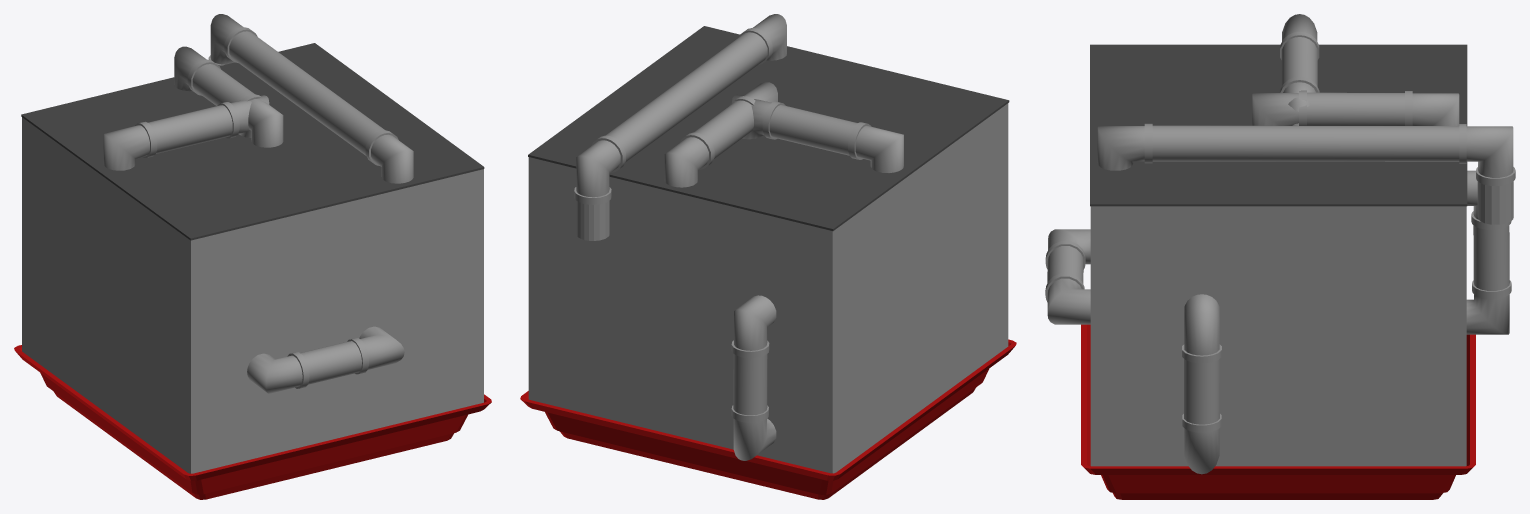
The model's file is Cage (1).FBX.
3 views of the same model, side by side, from view 1: azimuth 30°, elevation 25°; view 2: azimuth 150°, elevation 25°; view 3: azimuth 270°, elevation 25° (orthographic). The views are drawn at different scales.
Parts seen in each view (by area): view 1: Cage, Box005; view 2: Cage, Box005; view 3: Cage, Box005.
Part boxes in pixels (bbox=[...]): Cage: bbox=[21, 14, 484, 473]; Box005: bbox=[14, 345, 491, 499]; Cage: bbox=[528, 14, 1009, 473]; Box005: bbox=[520, 339, 1016, 499]; Cage: bbox=[1045, 14, 1515, 474]; Box005: bbox=[1081, 324, 1475, 499].
Size of the model in its own units: 240 by 211 by 261.
